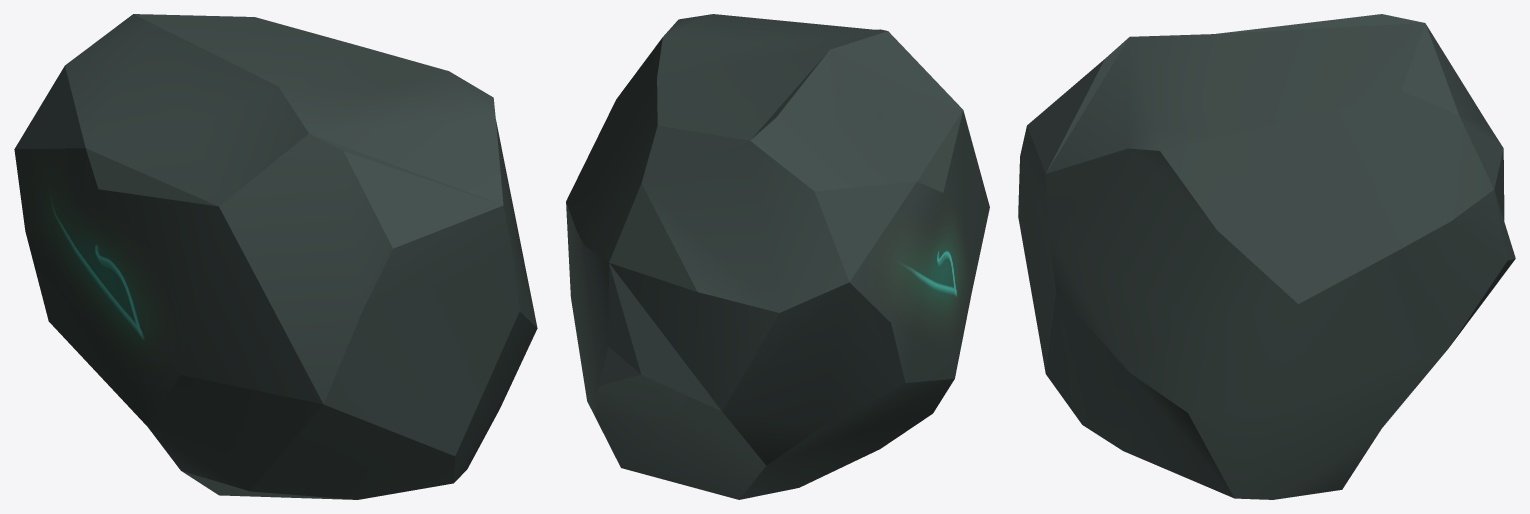
The model's file is Rock_Base_1.FBX.
3 renders of one model, left to right at view 1: azimuth 30°, elevation 25°; view 2: azimuth 150°, elevation 25°; view 3: azimuth 270°, elevation 25°, orthographic. The views are drawn at different scales.
Visible parts, largest first — view 1: GeoSphere004; view 2: GeoSphere004; view 3: GeoSphere004.
Part boxes in pixels (left/top/right/bottom): GeoSphere004: left=14, top=14, right=537, bottom=499; GeoSphere004: left=566, top=14, right=989, bottom=499; GeoSphere004: left=1018, top=14, right=1515, bottom=499.
Bounding box in the file's own units: 56.6 × 59.26 × 66.87.
